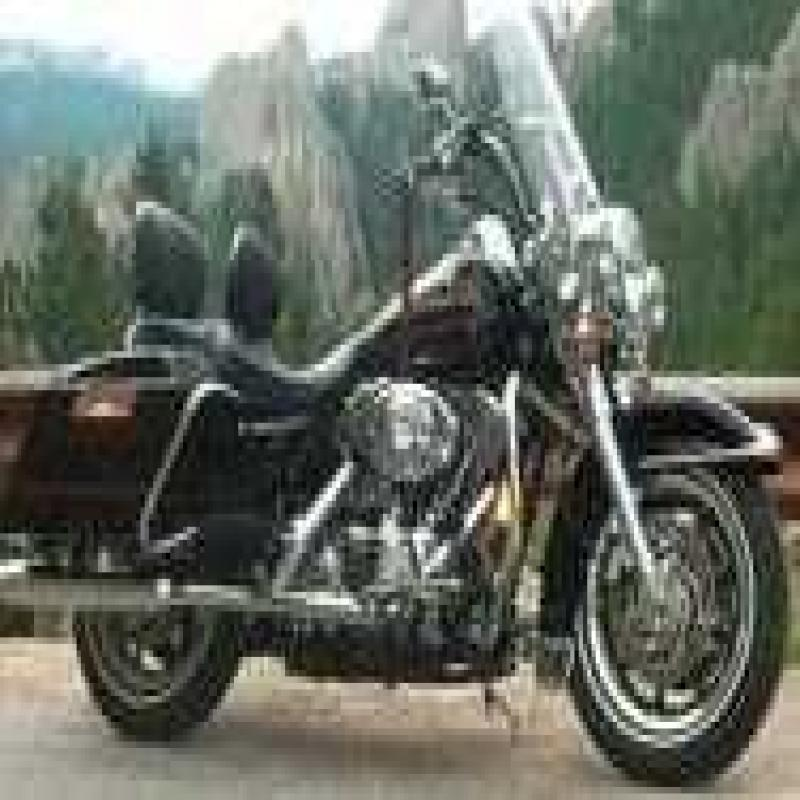bike: (26, 27, 788, 787)
